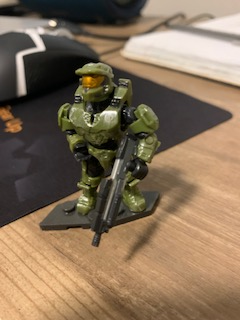chief: (54, 61, 162, 217)
rifle: (87, 132, 142, 246)
spartan: (52, 59, 160, 215)
